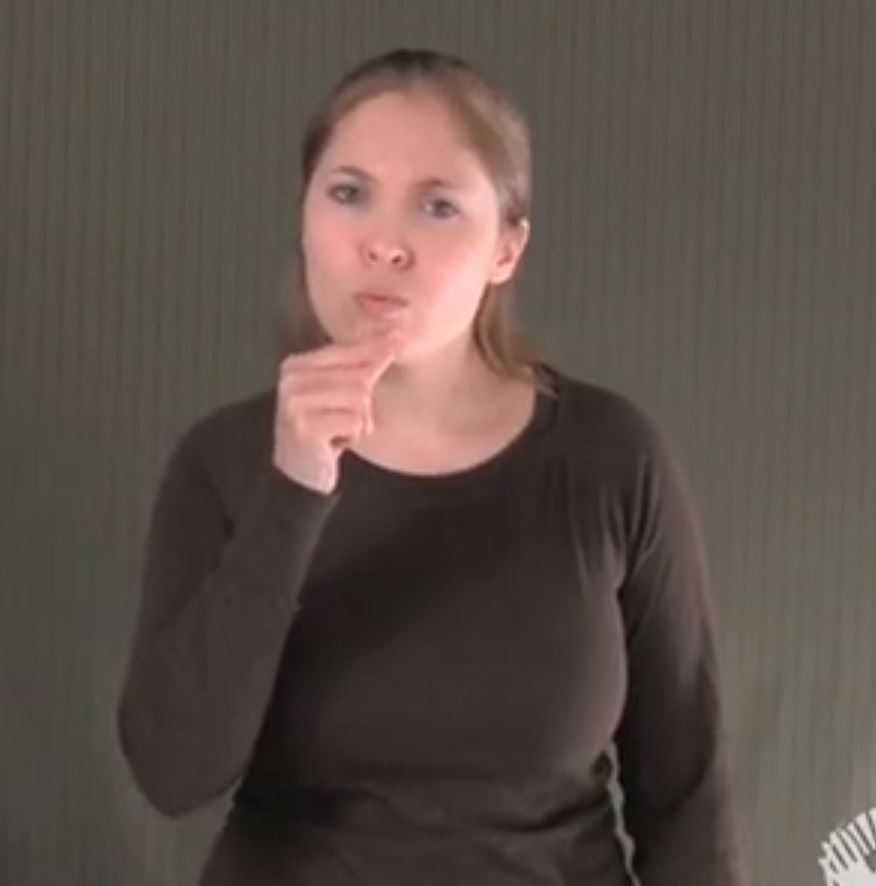who: (260, 255, 521, 528)
